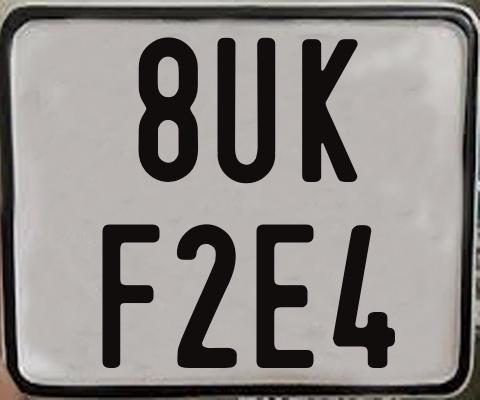2: (174, 221, 239, 368)
4: (331, 225, 397, 371)
8: (136, 36, 197, 183)
E: (254, 222, 313, 366)
F: (99, 221, 160, 368)
K: (299, 36, 361, 185)
U: (214, 38, 277, 187)
